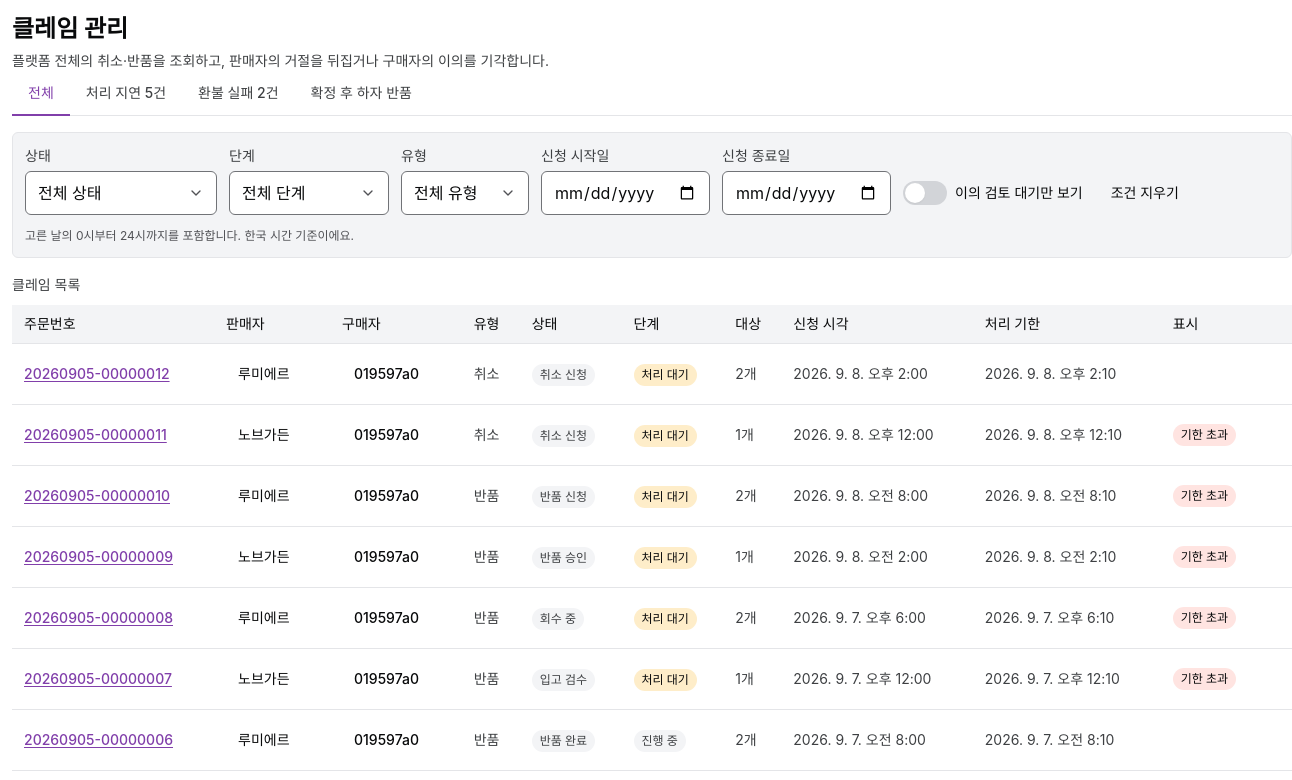
it: 대상을 찾는 자리 › 주문번호로는 찾을 수 없다는 것을 누르기 전에 말한다
Click the tab "확정 후 하자 반품". click: (361, 94)
box: x1=295 y1=72 x2=428 y2=116
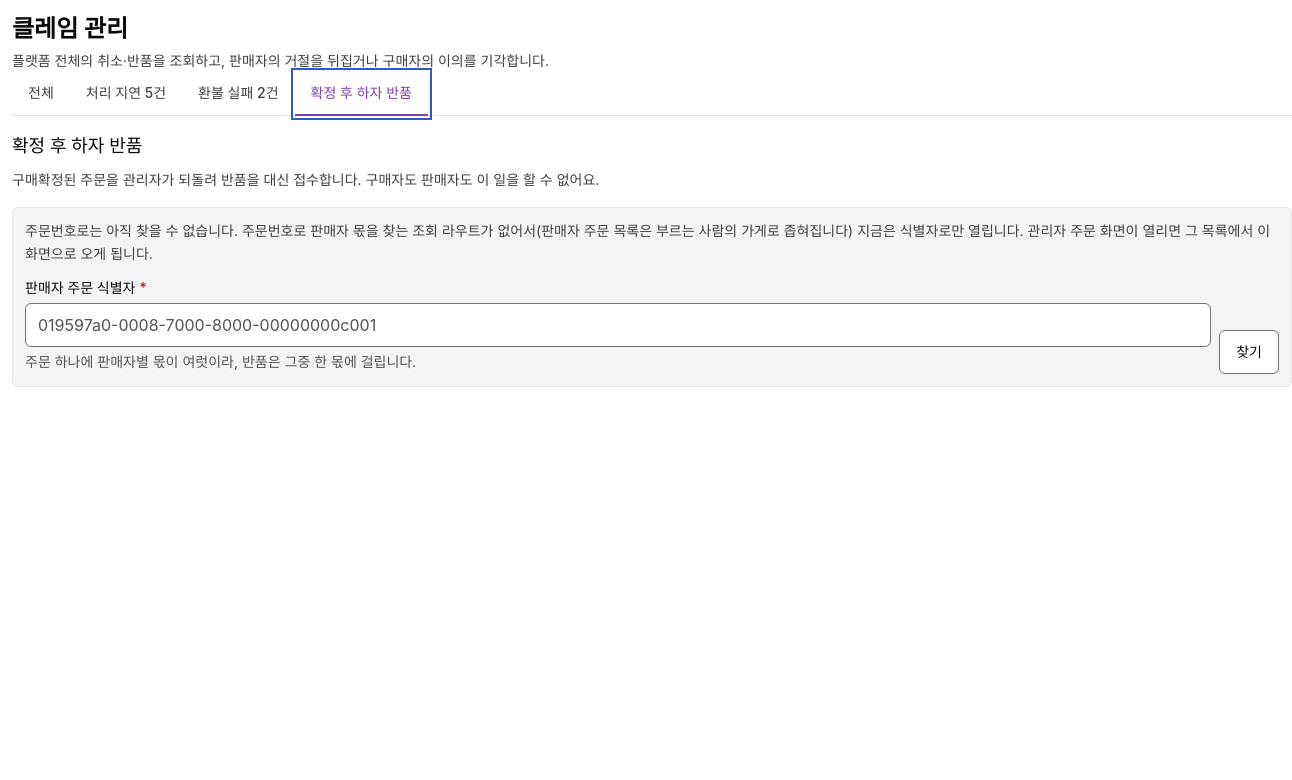
expect the field labelled "판매자 주문 식별자" is shown: met, box x1=25 y1=303 x2=1211 y2=347
expect the text "주문번호로는 아직 찾을 수 없습니다. 주문번호로 판매자 몫을 찾는 조회 라우트가 없어서(판매자 주문 목록은 부르는 사람의 가게로 좁혀집니다) 지금은 식별자로만 열립니다. 관리자 주문 화면이 열리면 그 목록에서 이 화" is shown: met, box x1=25 y1=222 x2=1270 y2=262
